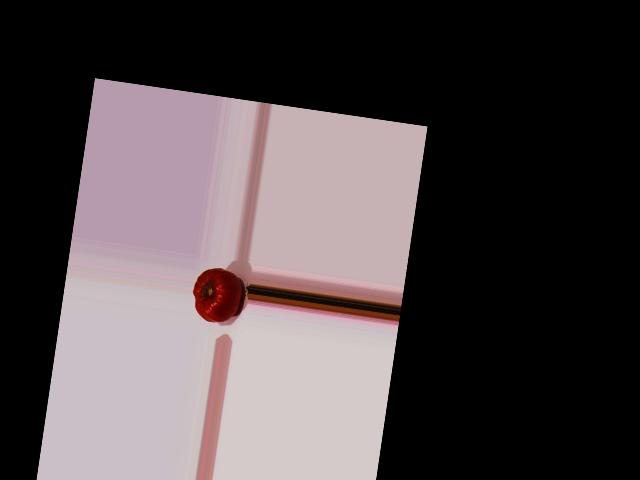tomato: (189, 265, 244, 325)
